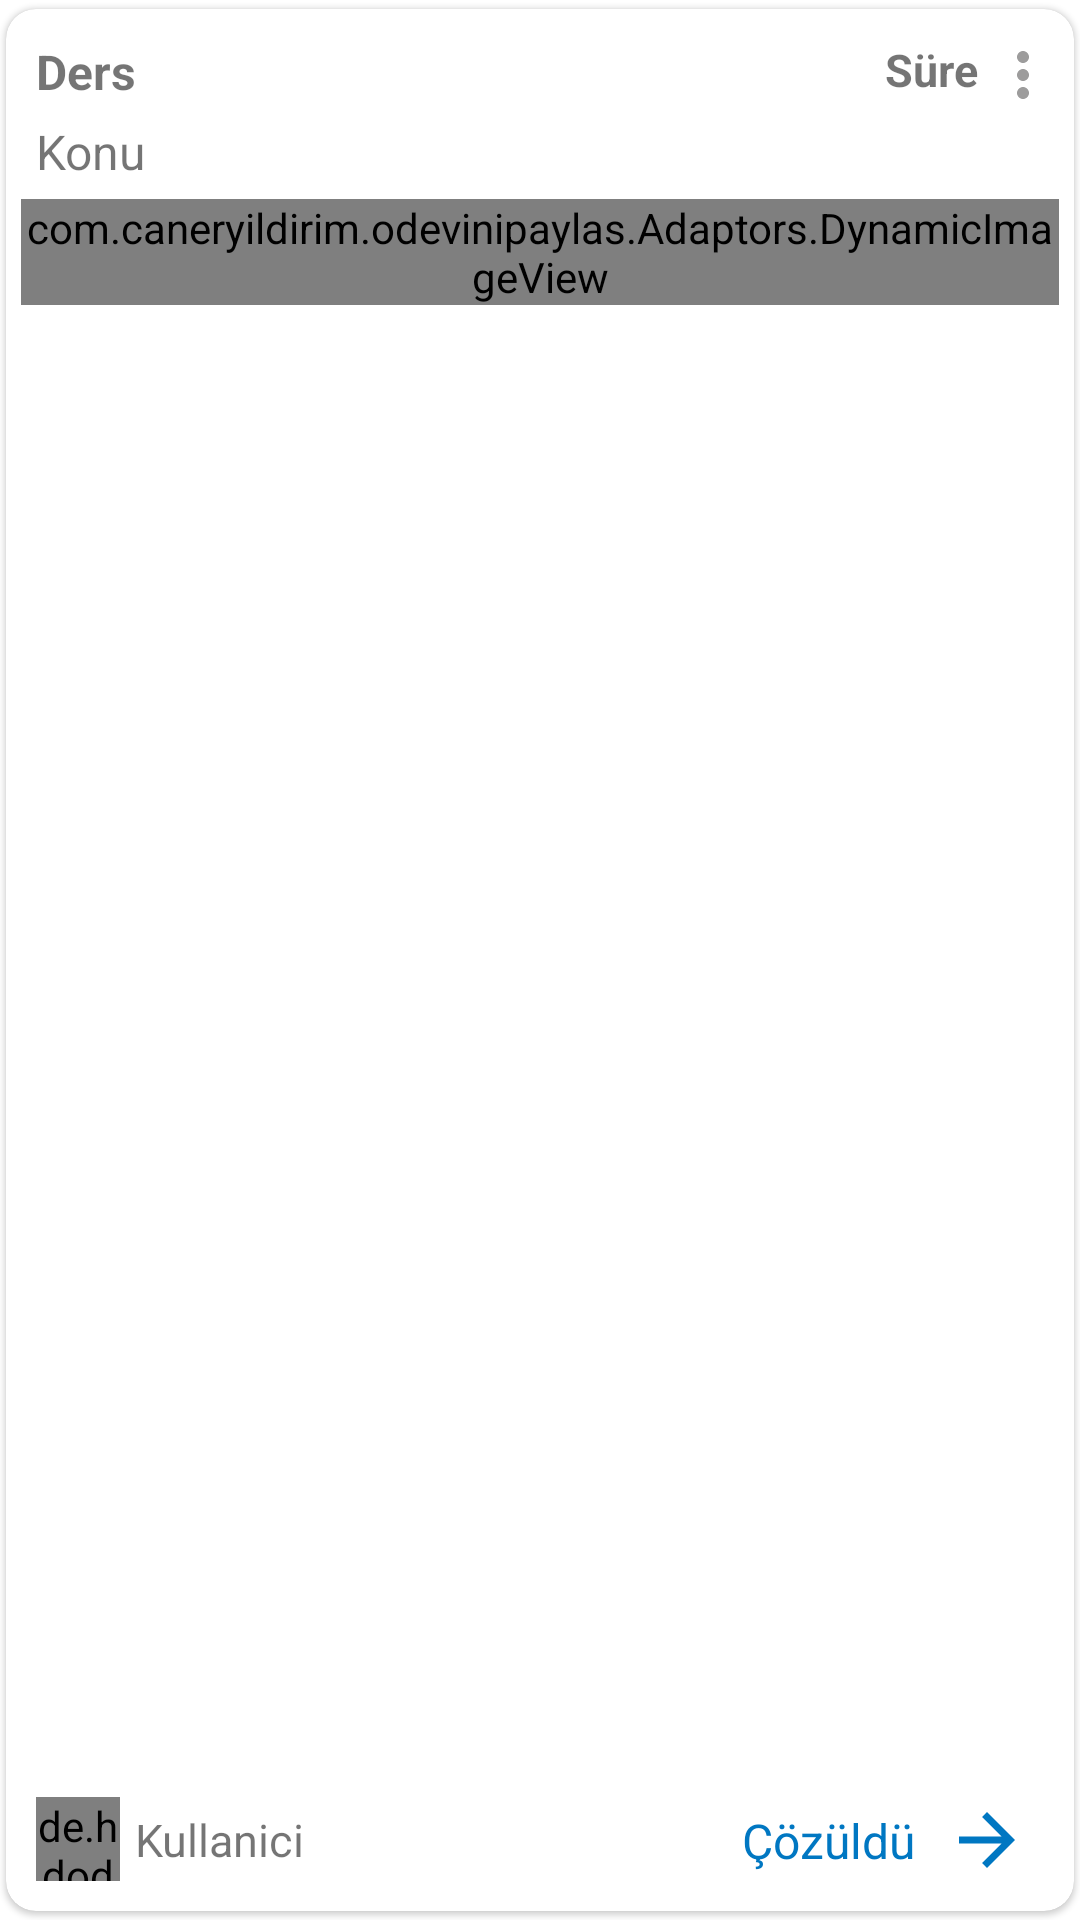

Named icons in this screenshot (1080px x 1920px) and their centers, (x=x, y=y):
detail: (x=987, y=1840)
noktauc: (x=1023, y=75)
